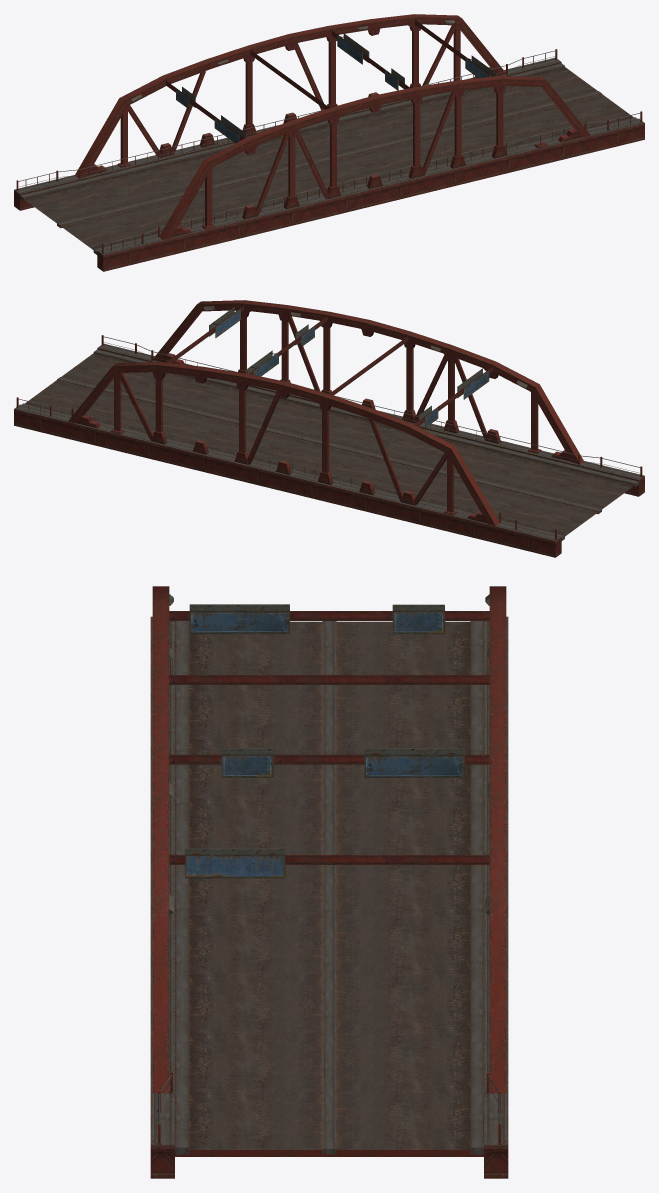
Rendered from Building_TrackBridge004_lod1.glb.
The picture shows the model from 3 angles, top to bottom: view 1: azimuth 30°, elevation 25°; view 2: azimuth 150°, elevation 25°; view 3: azimuth 270°, elevation 25°; orthographic projection. The views are drawn at different scales.
Parts seen in each view (by area): view 1: track_bridge004_lod1; view 2: track_bridge004_lod1; view 3: track_bridge004_lod1.
Part boxes in pixels (x1=…): track_bridge004_lod1: x1=14, y1=14, x2=644, y2=271; track_bridge004_lod1: x1=14, y1=300, x2=644, y2=557; track_bridge004_lod1: x1=150, y1=586, x2=508, y2=1178.
Size of the model in its own units: 102 by 19.01 by 29.15.
1 material, 1 textured.
